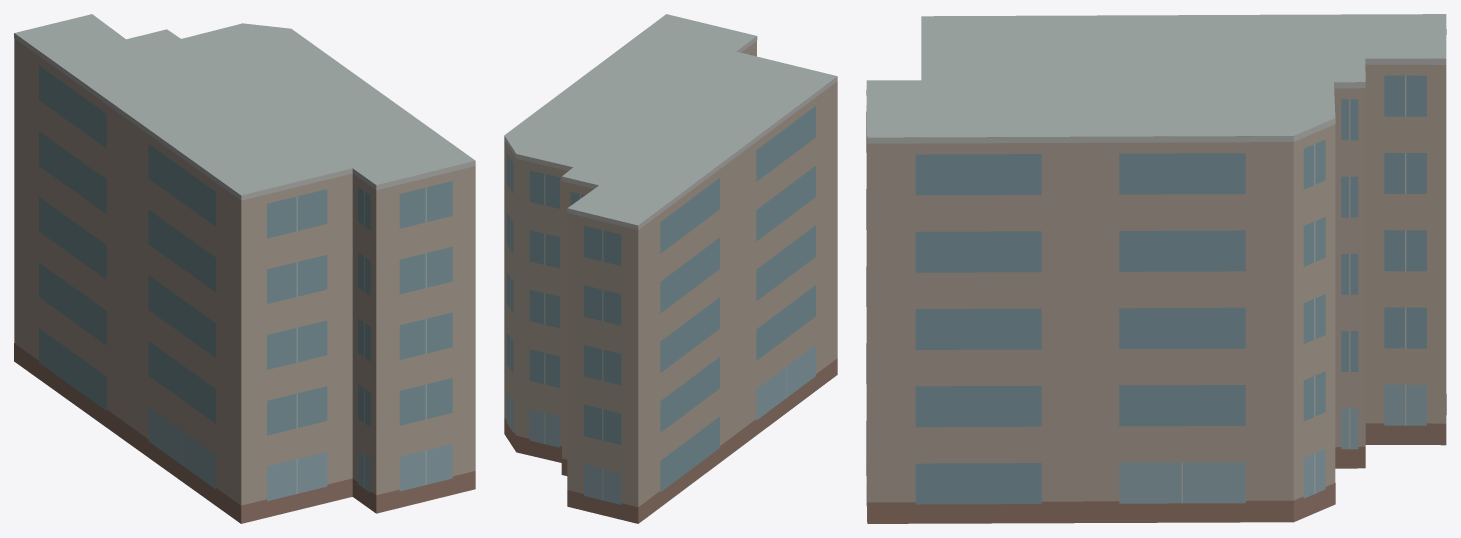
Rendered from survey-upis-32772543.glb.
3 views of the same model, side by side, from view 1: azimuth 30°, elevation 25°; view 2: azimuth 150°, elevation 25°; view 3: azimuth 270°, elevation 25° (orthographic). The views are drawn at different scales.
Visible parts, largest first — view 1: survey-upis-32772543.tmp; view 2: survey-upis-32772543.tmp; view 3: survey-upis-32772543.tmp.
Part boxes in pixels (x1,y1,x2,y2): survey-upis-32772543.tmp: [14, 14, 475, 523]; survey-upis-32772543.tmp: [504, 14, 837, 523]; survey-upis-32772543.tmp: [866, 14, 1446, 523].
Size of the model in its own units: 10.65 by 15.5 by 21.1.
